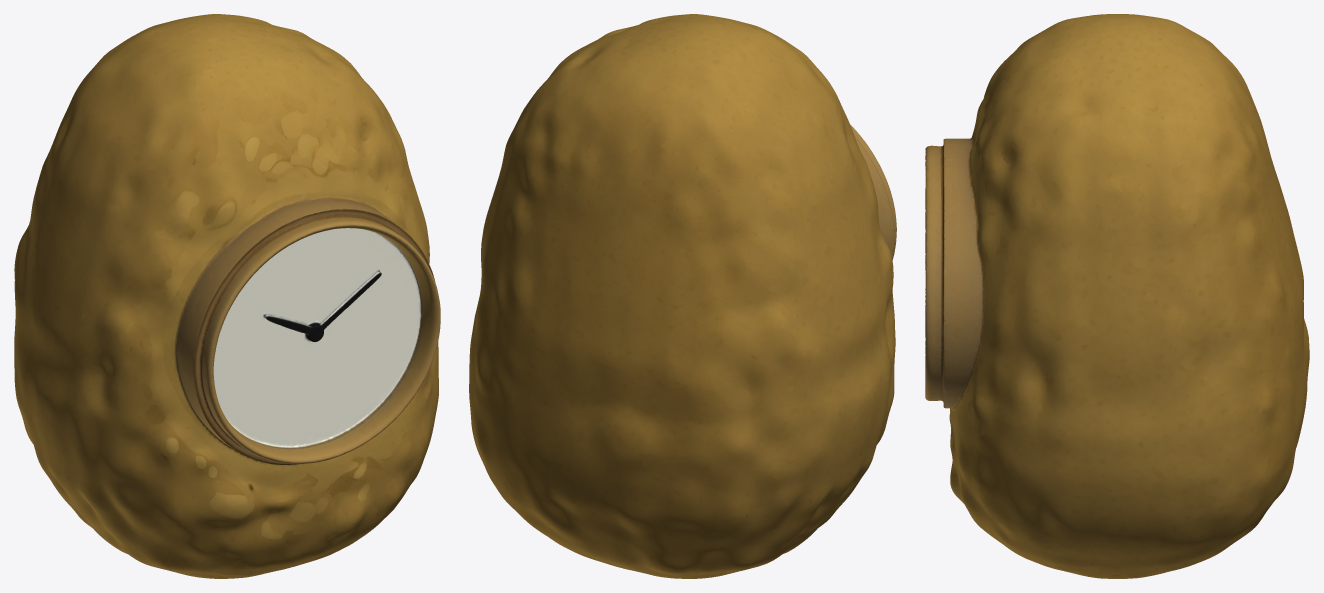
File: PapaTiempo.glb
The picture shows the model from 3 angles, left to right: view 1: azimuth 30°, elevation 25°; view 2: azimuth 150°, elevation 25°; view 3: azimuth 270°, elevation 25°; orthographic projection. The views are drawn at different scales.
Bounding box in the file's own units: 1.37 × 1.9 × 1.27.
Materials: 1 (1 with a texture image).
